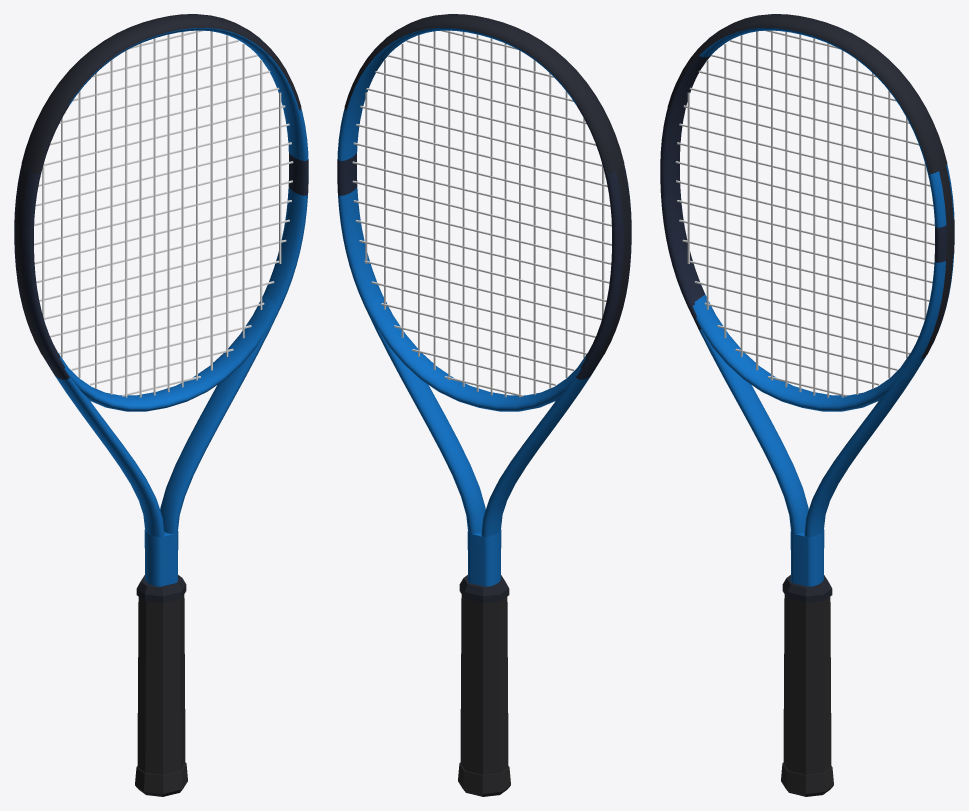
Rendered from dunlop-fx-500-2023.glb.
3 renders of one model, left to right at view 1: azimuth 30°, elevation 25°; view 2: azimuth 150°, elevation 25°; view 3: azimuth 330°, elevation 25°, orthographic.
Parts seen in each view (by area): view 1: frame, strings_mains, strings_crosses, grip, bumper, grommets, butt_cap, collar; view 2: frame, strings_mains, strings_crosses, grip, bumper, grommets, butt_cap, collar; view 3: frame, strings_mains, strings_crosses, grip, bumper, grommets, butt_cap, collar.
Boxes of the visible parts, <box> form: frame: <box>14,27,308,586</box>; strings_mains: <box>42,30,281,397</box>; strings_crosses: <box>34,30,293,396</box>; grip: <box>137,594,185,774</box>; bumper: <box>21,14,301,174</box>; grommets: <box>15,166,47,359</box>; butt_cap: <box>135,762,187,796</box>; collar: <box>136,575,186,602</box>; frame: <box>337,27,631,586</box>; strings_mains: <box>365,30,604,397</box>; strings_crosses: <box>352,30,611,396</box>; grip: <box>460,594,508,774</box>; bumper: <box>344,14,624,174</box>; grommets: <box>598,166,630,359</box>; butt_cap: <box>458,762,510,796</box>; collar: <box>459,575,509,602</box>; frame: <box>660,27,954,586</box>; strings_mains: <box>687,30,926,397</box>; strings_crosses: <box>675,30,934,396</box>; grip: <box>783,594,831,774</box>; bumper: <box>667,14,947,174</box>; grommets: <box>921,166,953,359</box>; butt_cap: <box>781,762,833,796</box>; collar: <box>782,575,832,602</box>.
Bounding box in the file's own units: 0.2687 × 0.6861 × 0.0377.
